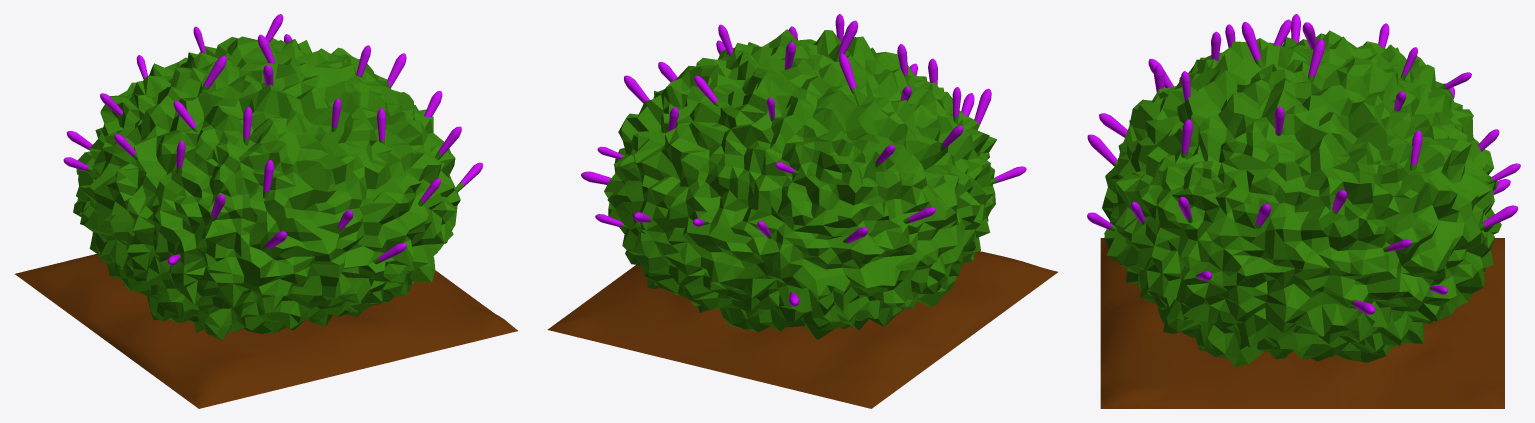
Rendered from petunia-p4-leaf.glb.
The picture shows the model from 3 angles, left to right: view 1: azimuth 30°, elevation 25°; view 2: azimuth 150°, elevation 25°; view 3: azimuth 270°, elevation 25°; orthographic projection. The views are drawn at different scales.
Parts seen in each view (by area): view 1: 4_nft_out_of_bloom; view 2: 4_nft_out_of_bloom; view 3: 4_nft_out_of_bloom.
Part boxes in pixels (x1,y1,x2,y2): 4_nft_out_of_bloom: (15, 14, 517, 408); 4_nft_out_of_bloom: (547, 14, 1057, 408); 4_nft_out_of_bloom: (1087, 14, 1520, 408).
Bounding box in the file's own units: 0.7766 × 0.5504 × 0.7513.
